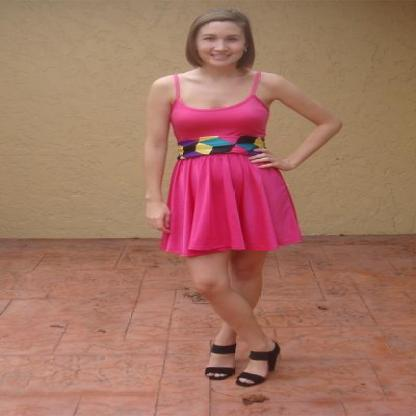dress: (156, 97, 300, 257)
shoe: (212, 341, 280, 386)
